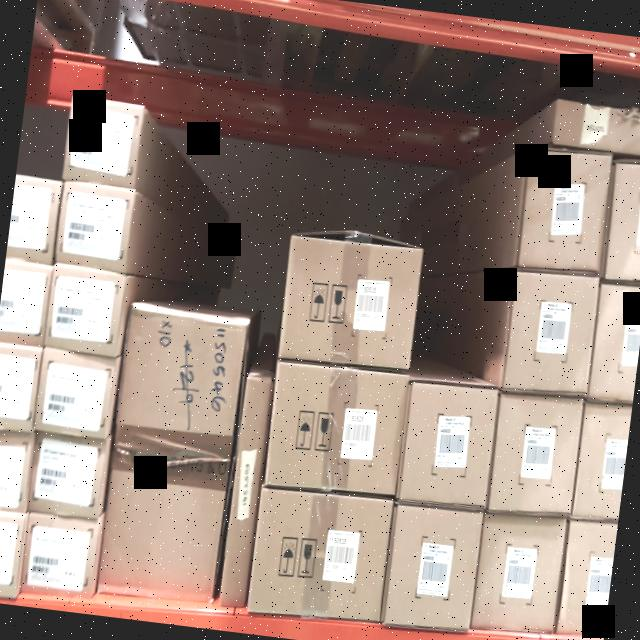box: (97, 310, 247, 604), (278, 233, 422, 372), (249, 486, 393, 624), (264, 363, 409, 498), (397, 377, 498, 506), (382, 501, 482, 630), (516, 146, 612, 274), (501, 271, 600, 394), (488, 388, 582, 516), (220, 378, 272, 606), (472, 512, 565, 630), (54, 182, 134, 272), (64, 99, 144, 185), (36, 351, 114, 438), (28, 433, 108, 517), (46, 268, 124, 352), (20, 514, 99, 596)
